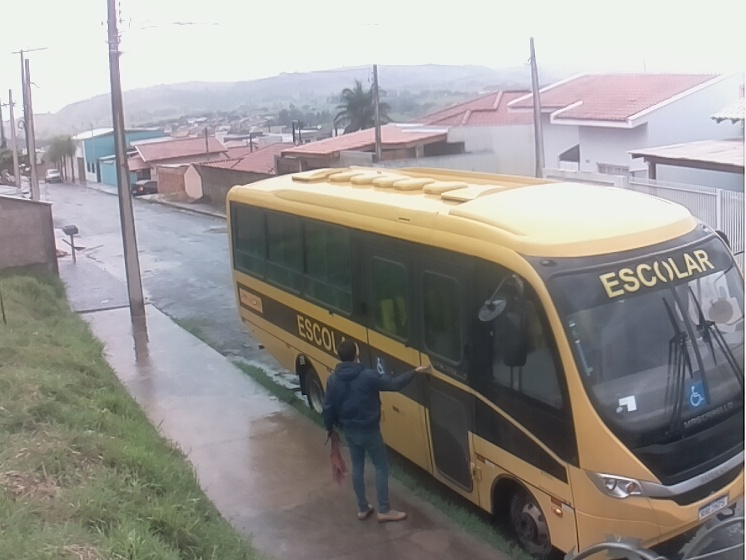person: (320, 340, 431, 522)
